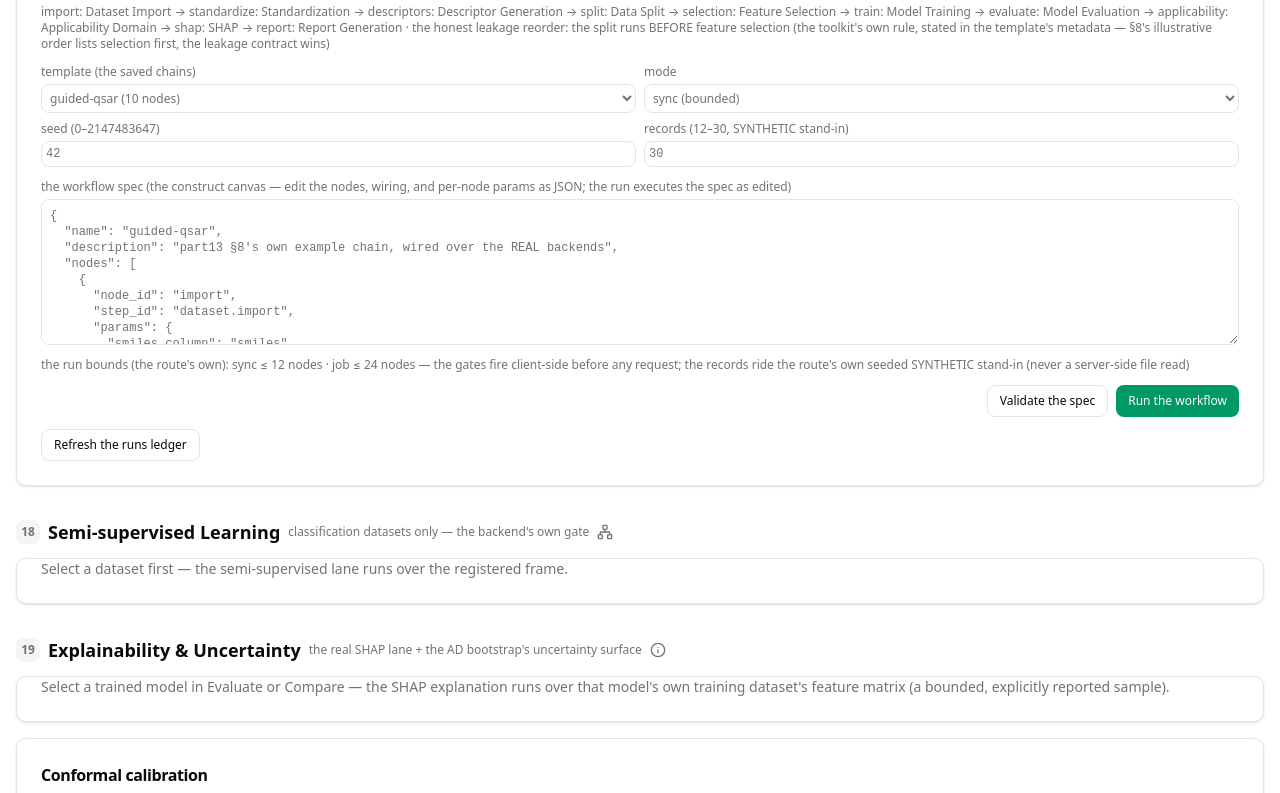
Test: the §8 Workflow Builder lane of the Machine Learning workspace › runs the sync round trip and renders the REAL parsed run record
The image size is (1280, 793).
(page scrolled)
Click the button "Run the workflow" at [1178, 401], box [1116,385,1239,417]
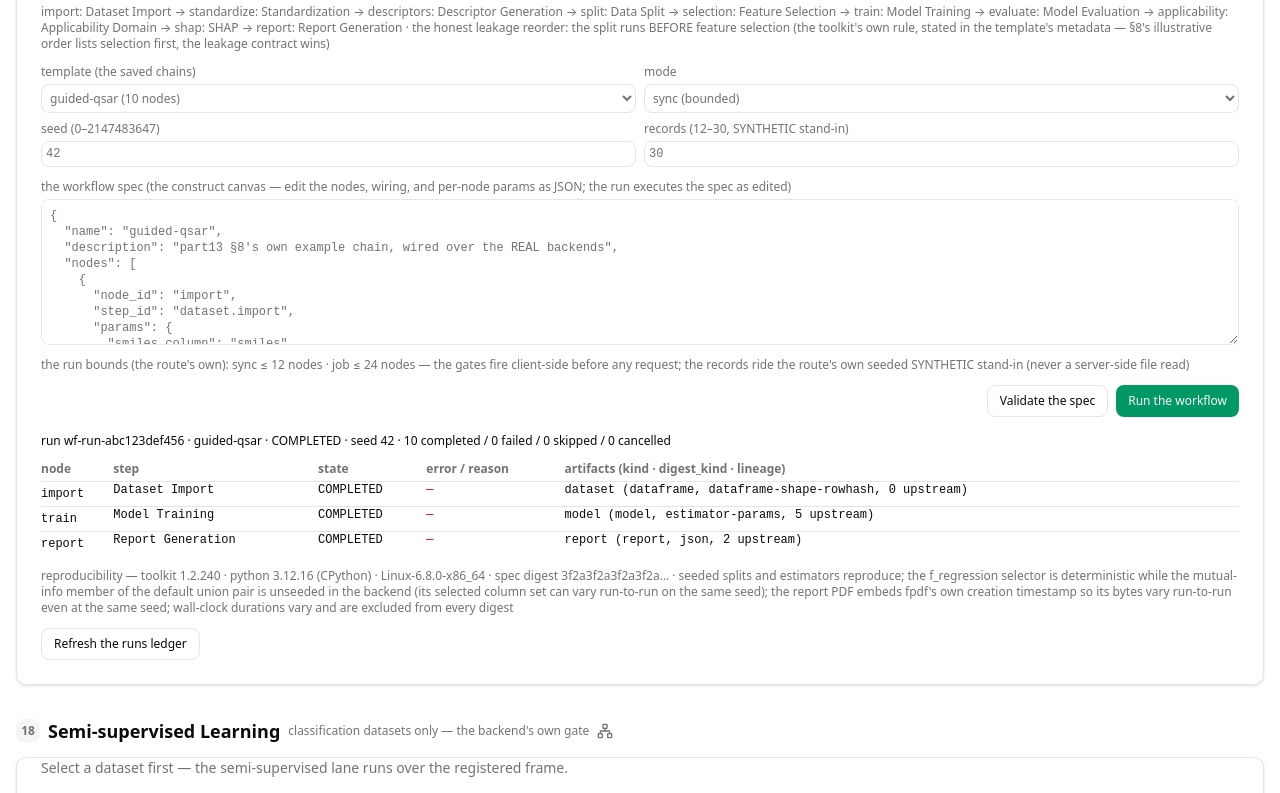
Expected: the text "10 completed / 0 failed" is shown, [41,432,671,449]
Expected: the text "model (model, estimator-params, 5 upstream)" is shown, [565,506,1239,531]
Expected: the text "report (report, json, 2 upstream)" is shown, [565,531,1239,556]
